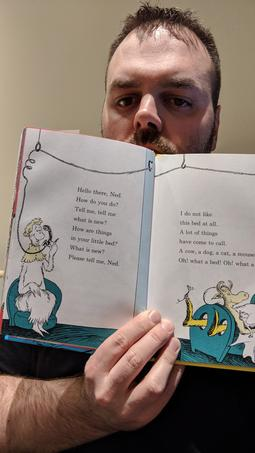text block: (57, 176, 133, 273), (173, 203, 255, 273)
